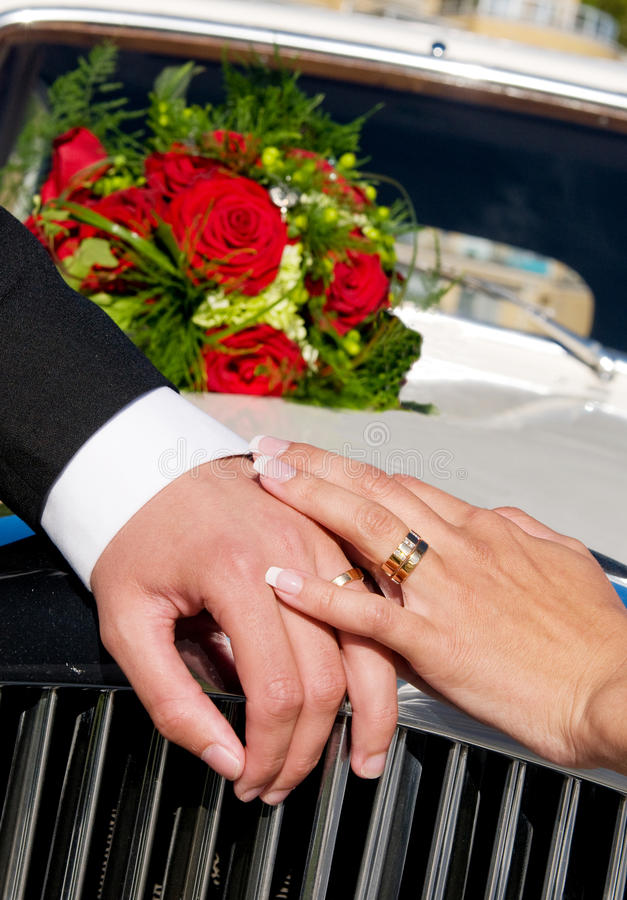RedRose: (155, 147, 293, 301)
